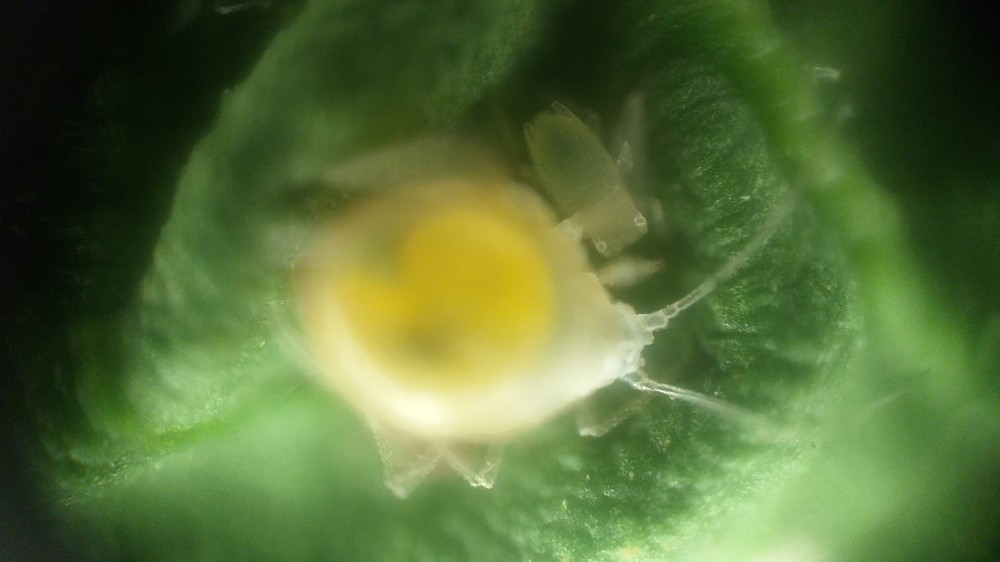Pulgon: (285, 115, 917, 510)
